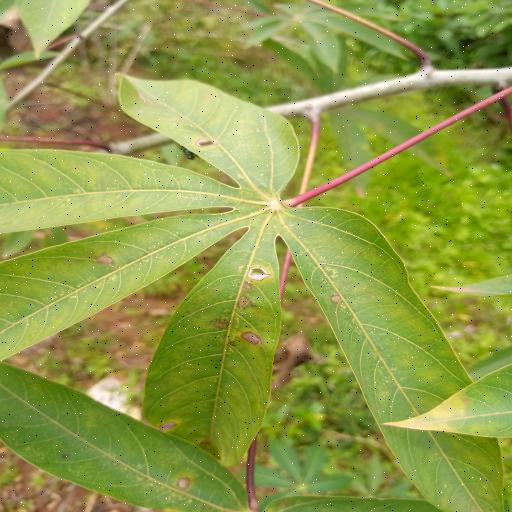Cassava_Brown_Leaf_Spot: (8, 68, 512, 510)
